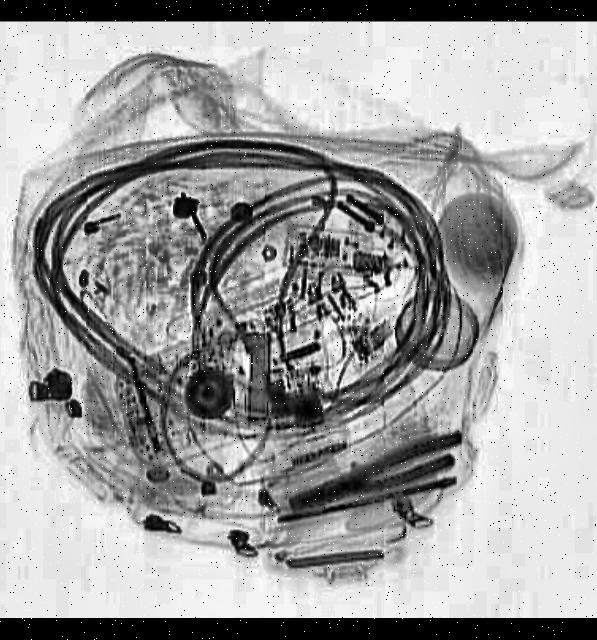Pliers: (279, 426, 466, 520)
